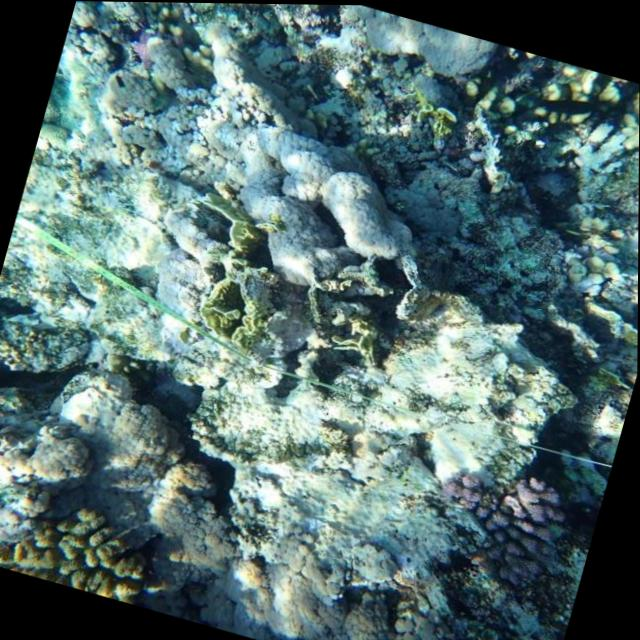Bleached Coral: (183, 413, 484, 640), (178, 82, 442, 305), (333, 267, 587, 480), (0, 353, 157, 582), (304, 4, 525, 152), (87, 1, 256, 194), (550, 83, 631, 188)
